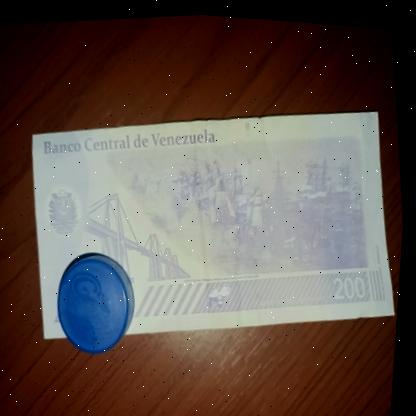two_hundred-back-vef: (19, 83, 410, 359)
